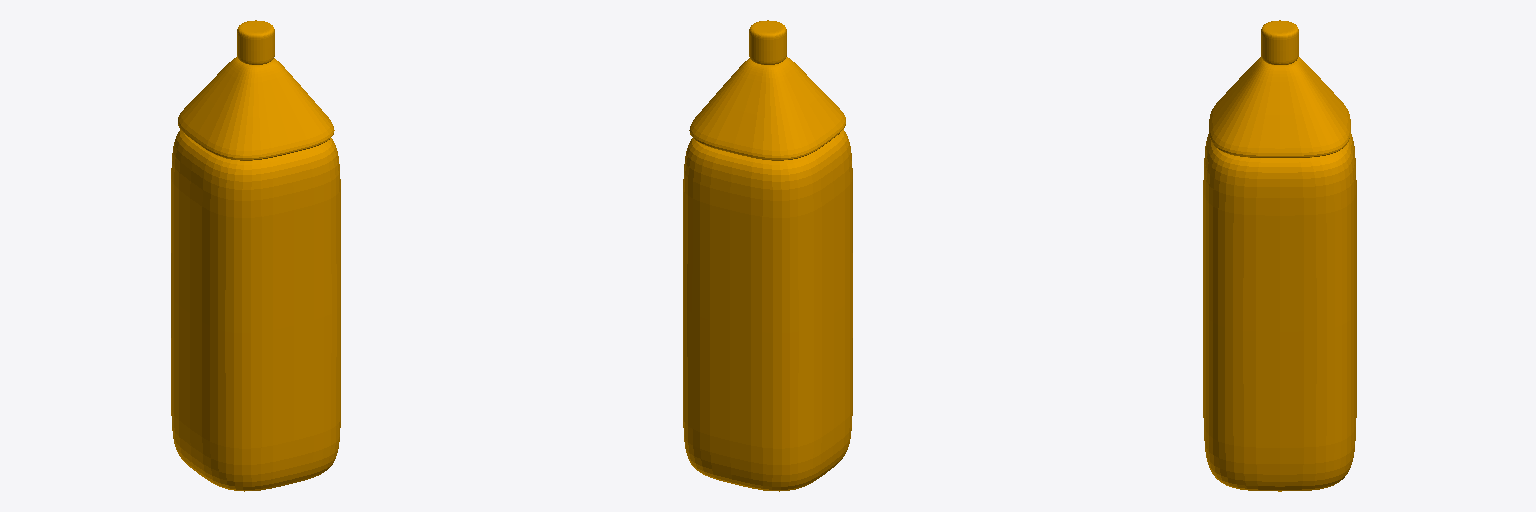
The robot description file, URDF, robot "object_421887207":

		<robot name="object_421887207">
			<link name="link_object_421887207">
				<visual>
					<geometry>
						<mesh filename="temp_object_421887207.obj" />
					</geometry>
				</visual>

				<collision>
					<geometry>
						<mesh filename="temp_object_421887207.obj" />
					</geometry>
				</collision>
				
				<inertial>
					<origin rpy="0 0 0" xyz="0 0 0"/>
					<mass value="0.3" />
					<inertia ixx="0.3" ixy="0" ixz="0" iyy="0.3" iyz="0" izz="0.3" />
				</inertial>
			</link>
		</robot>
		

--- Render facts (derived) ---
3 views of the same robot in one strip: view 1: azimuth 30°, elevation 25°; view 2: azimuth 150°, elevation 25°; view 3: azimuth 270°, elevation 25° (orthographic).
Model object_421887207 with 1 links and 0 joints (none), rooted at link_object_421887207, posed every joint at zero.
Links seen in each view (by area): view 1: link_object_421887207; view 2: link_object_421887207; view 3: link_object_421887207.
Link boxes in pixels (bbox=[...]): link_object_421887207: bbox=[171, 20, 340, 491]; link_object_421887207: bbox=[683, 20, 852, 491]; link_object_421887207: bbox=[1203, 20, 1356, 491].
Bounding box of the posed robot: 0.0867 × 0.0867 × 0.2744 m (x, y, z).
1 mesh visuals loaded from 1 distinct referenced files (1 OBJ).
